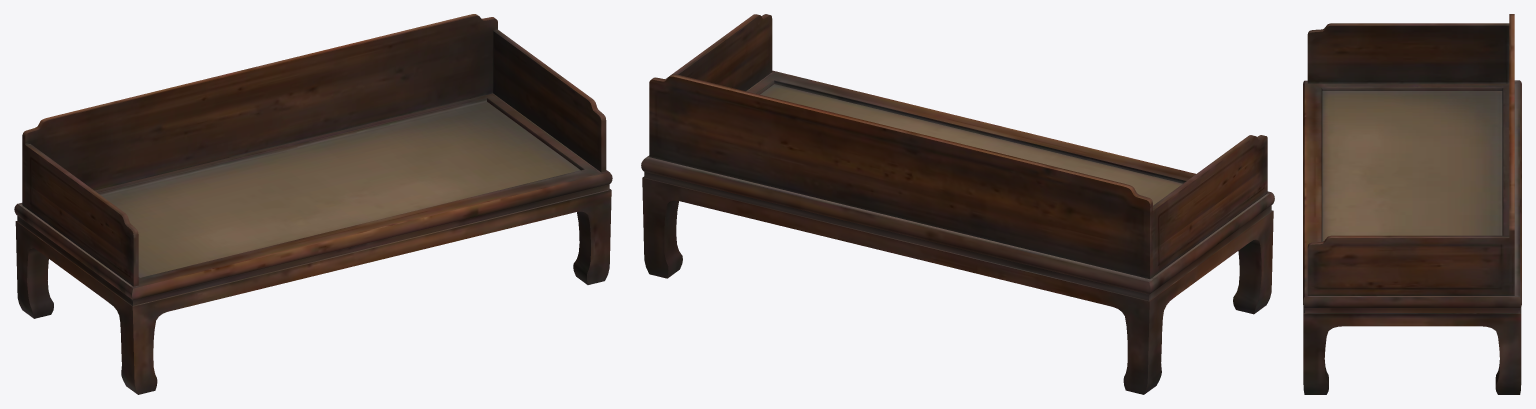
Rendered from cn_sofa.glb.
3 views of the same model, side by side, from view 1: azimuth 30°, elevation 25°; view 2: azimuth 150°, elevation 25°; view 3: azimuth 270°, elevation 25° (orthographic). The views are drawn at different scales.
Visible parts, largest first — view 1: cn_sofa; view 2: cn_sofa; view 3: cn_sofa.
Part boxes in pixels (<box>): cn_sofa: <box>14,14,612,394</box>; cn_sofa: <box>641,14,1274,394</box>; cn_sofa: <box>1303,14,1521,394</box>.
Bounding box in the file's own units: 2.29 × 0.8599 × 0.9687.
1 material, 1 textured.
